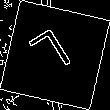L_SE: (28, 26, 82, 84)
